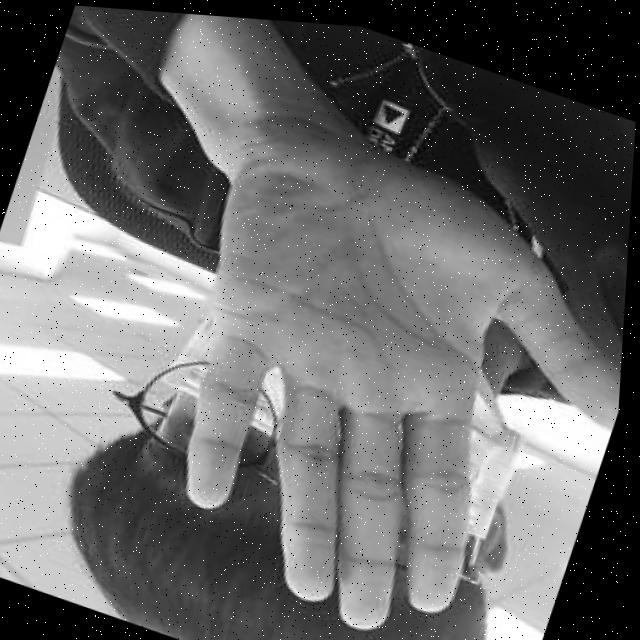hand: (113, 93, 636, 640)
